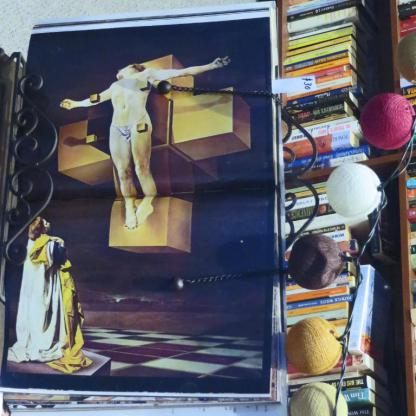Ball: (360, 94, 416, 152), (289, 233, 344, 290), (287, 317, 344, 371), (325, 162, 380, 216), (290, 382, 350, 416), (396, 31, 416, 85)
